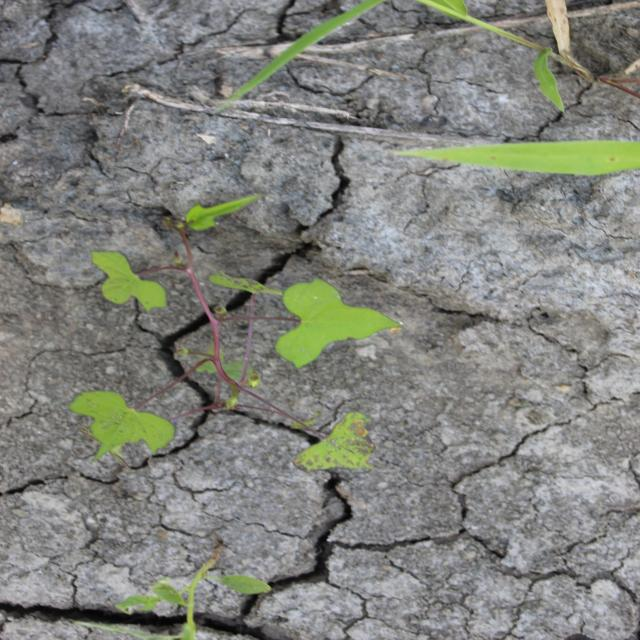MorningGlory: (67, 192, 408, 474)
